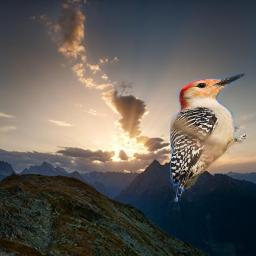Woodpecker: (170, 72, 246, 202)
